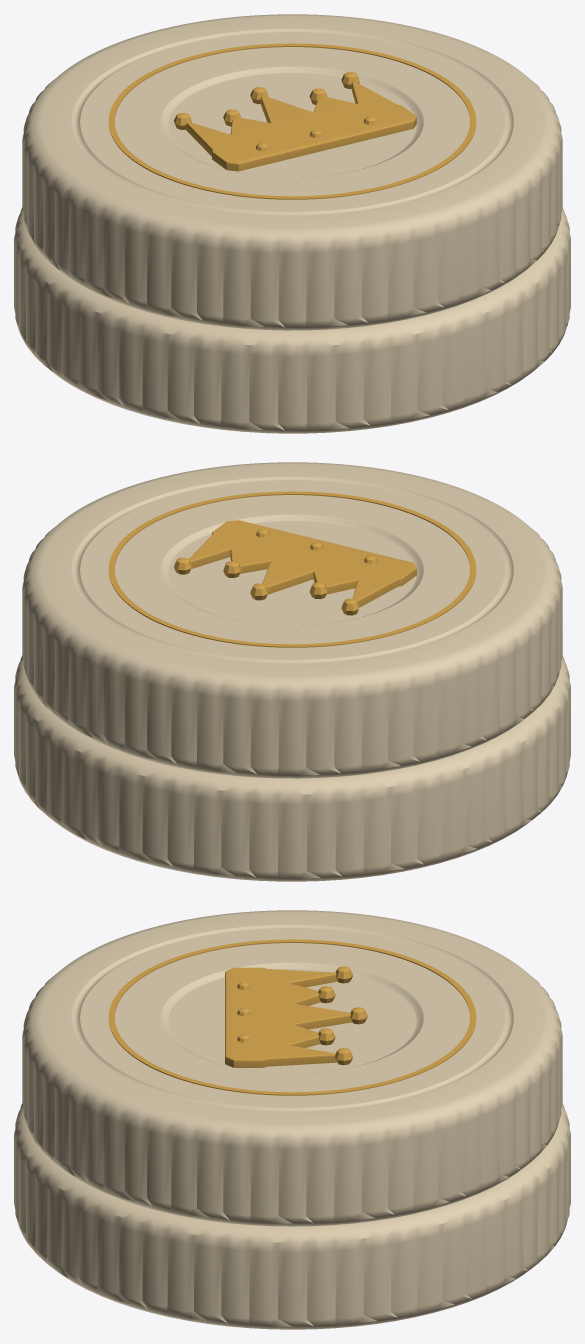
File: king.obj
3 views of the same model, one above another, from view 1: azimuth 30°, elevation 25°; view 2: azimuth 150°, elevation 25°; view 3: azimuth 270°, elevation 25° (orthographic).
Visible parts, largest first — view 1: king; view 2: king; view 3: king.
Boxes of the visible parts, bbox=[...] form: king: bbox=[14, 14, 570, 433]; king: bbox=[14, 462, 570, 881]; king: bbox=[14, 910, 570, 1329].
Size of the model in its own units: 0.76 by 0.316 by 0.76.
